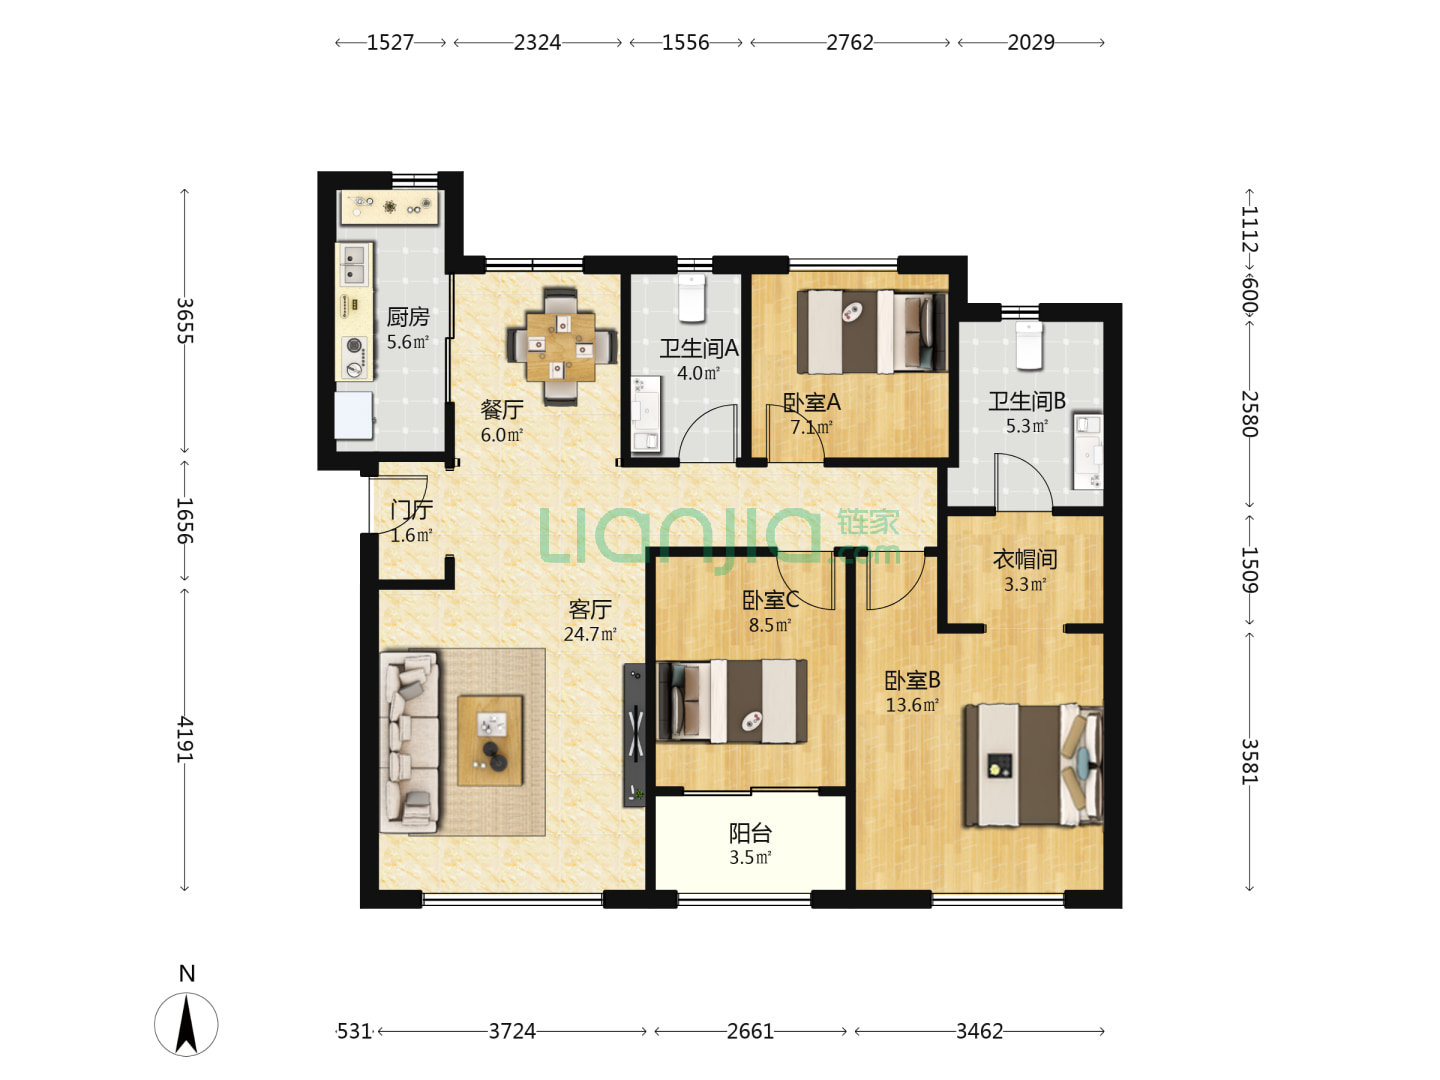DOOR(单开门): (990, 450, 1058, 516), (365, 473, 437, 535), (863, 545, 929, 611), (772, 547, 838, 611), (764, 402, 828, 466), (677, 402, 739, 466)
DOOR（移门）: (442, 275, 458, 403), (680, 786, 822, 796)
